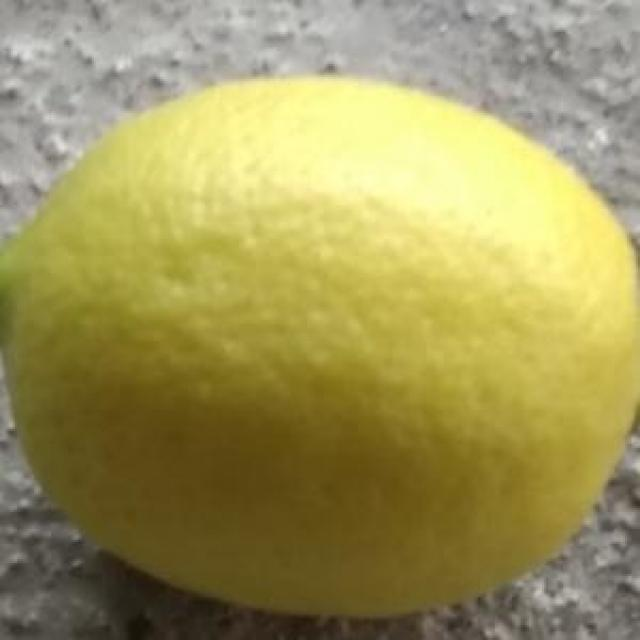lemon: (0, 76, 640, 622)
